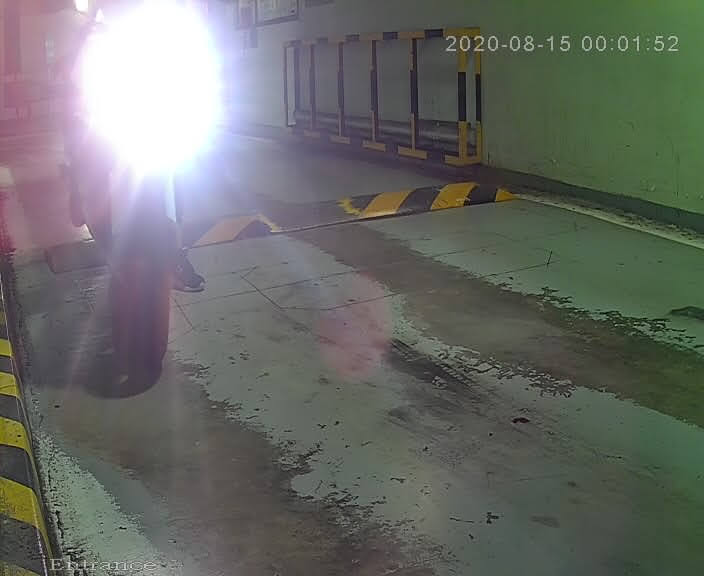motorcycle: (40, 1, 230, 383)
